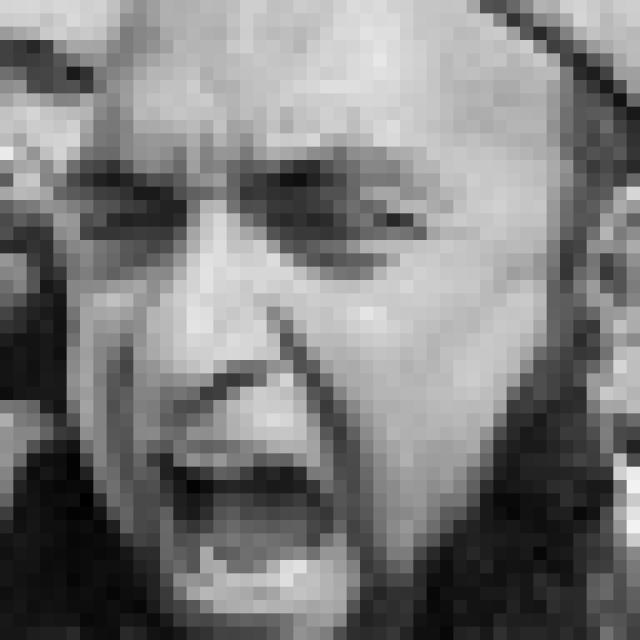angry: (61, 123, 458, 627)
